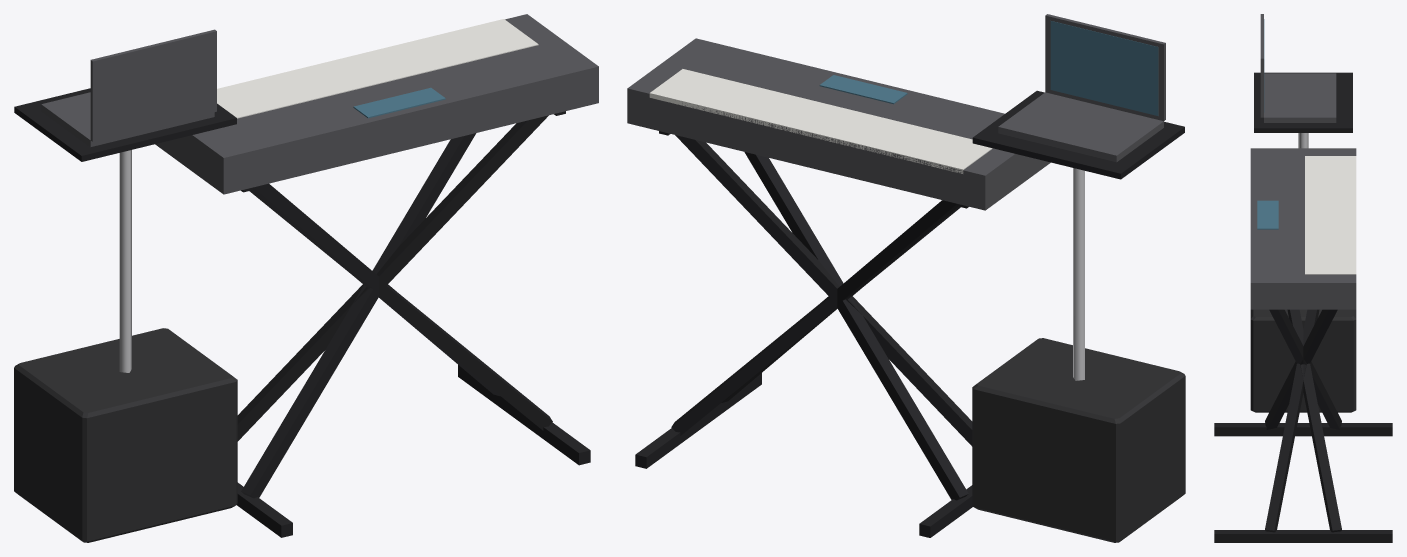
File: synth-61-low.glb
3 renders of one model, left to right at view 1: azimuth 30°, elevation 25°; view 2: azimuth 150°, elevation 25°; view 3: azimuth 270°, elevation 25°, orthographic. The views are drawn at different scales.
Visible parts, largest first — view 1: panel, cabinet, frame, keys, metal, screen; view 2: cabinet, panel, frame, keys, screen, metal; view 3: panel, frame, cabinet, keys, screen.
Boxes of the visible parts, left/top/right/bottom form: panel: left=41, top=14, right=598, bottom=194; cabinet: left=14, top=328, right=237, bottom=542; frame: left=14, top=88, right=590, bottom=537; keys: left=217, top=19, right=538, bottom=118; metal: left=119, top=150, right=131, bottom=372; screen: left=353, top=87, right=445, bottom=118; cabinet: left=972, top=338, right=1185, bottom=542; panel: left=627, top=14, right=1165, bottom=210; frame: left=635, top=90, right=1184, bottom=537; keys: left=649, top=69, right=992, bottom=173; screen: left=819, top=21, right=1158, bottom=115; metal: left=1073, top=168, right=1084, bottom=380; panel: left=1250, top=14, right=1356, bottom=309; frame: left=1214, top=72, right=1392, bottom=542; cabinet: left=1250, top=309, right=1356, bottom=412; keys: left=1305, top=156, right=1356, bottom=274; screen: left=1257, top=19, right=1278, bottom=229.
Bounding box in the file's own units: 1.33 × 1.21 × 0.54.
